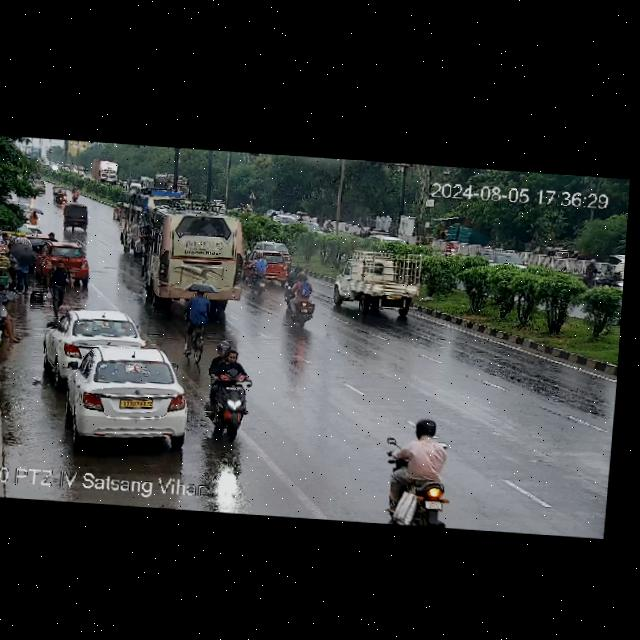bus: (136, 199, 247, 321), (111, 184, 159, 256)
car: (46, 343, 194, 448), (48, 307, 142, 366), (38, 246, 93, 281), (260, 238, 292, 279), (481, 251, 524, 270), (63, 204, 93, 228), (32, 179, 46, 191), (53, 185, 67, 194)
motorcycle: (375, 413, 455, 527), (202, 337, 258, 437), (288, 269, 322, 324), (248, 251, 276, 291), (584, 257, 599, 284), (445, 239, 457, 254), (325, 217, 333, 234), (69, 185, 78, 200), (56, 188, 63, 204)
person: (0, 228, 35, 286), (179, 286, 216, 336), (46, 256, 68, 308), (0, 295, 24, 342), (28, 206, 42, 226), (45, 230, 55, 242)
truck: (331, 248, 428, 318), (150, 172, 187, 198), (90, 158, 119, 187)
